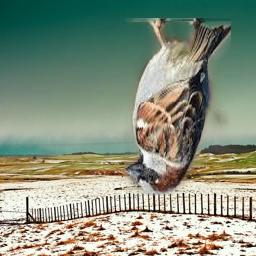Sparrow: (125, 18, 232, 196)
